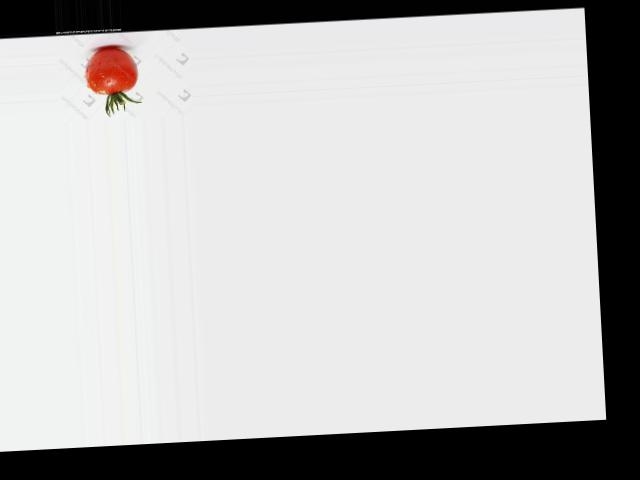tomato: (84, 46, 139, 94)
